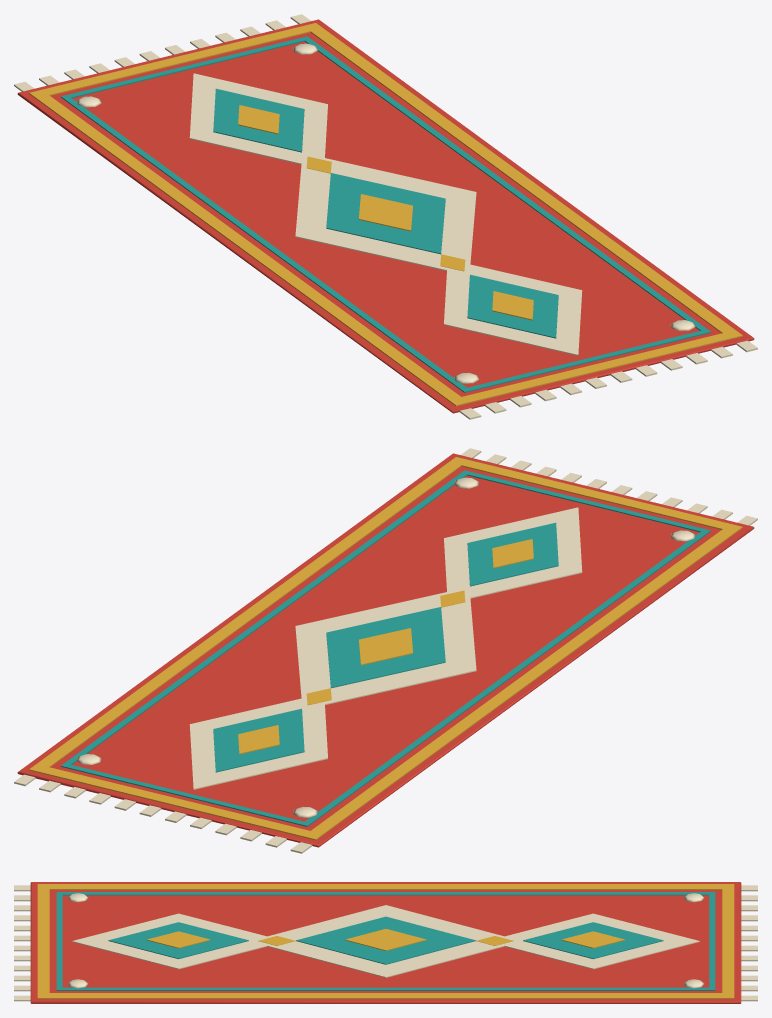
Rendered from rug_long.glb.
The picture shows the model from 3 angles, top to bottom: view 1: azimuth 30°, elevation 25°; view 2: azimuth 150°, elevation 25°; view 3: azimuth 270°, elevation 25°; orthographic projection. The views are drawn at different scales.
Visible parts, largest first — view 1: rug_long; view 2: rug_long; view 3: rug_long.
Part boxes in pixels (x1,y1,x2,y2): rug_long: (14, 14, 757, 419); rug_long: (14, 448, 757, 853); rug_long: (14, 882, 757, 1003).
Bounding box in the file's own units: 2.4 × 0.05 × 6.28.
